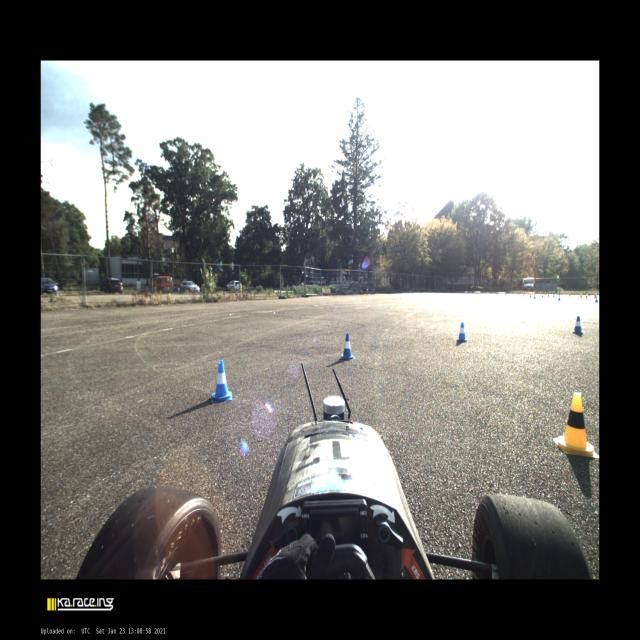blue_cone: (212, 360, 232, 402), (339, 333, 355, 360), (457, 320, 468, 342), (573, 315, 584, 334)
yellow_cone: (552, 390, 598, 458)
